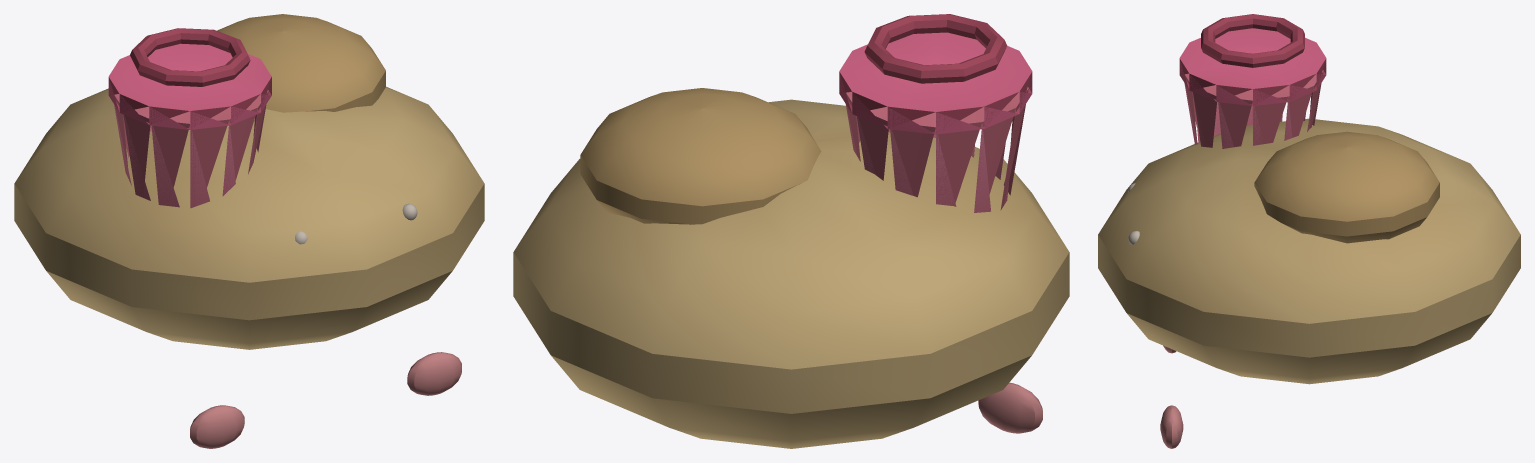
3 views of the same model, side by side, from view 1: azimuth 30°, elevation 25°; view 2: azimuth 150°, elevation 25°; view 3: azimuth 270°, elevation 25° (orthographic). The views are drawn at different scales.
Parts seen in each view (by area): view 1: pet_pd3f3da09; view 2: pet_pd3f3da09; view 3: pet_pd3f3da09.
Boxes of the visible parts, box(x1,y1,x2,y2) form: pet_pd3f3da09: box(14, 14, 484, 448); pet_pd3f3da09: box(513, 14, 1069, 448); pet_pd3f3da09: box(1098, 14, 1520, 448).
Size of the model in its own units: 0.4491 by 0.3794 by 0.4491.
